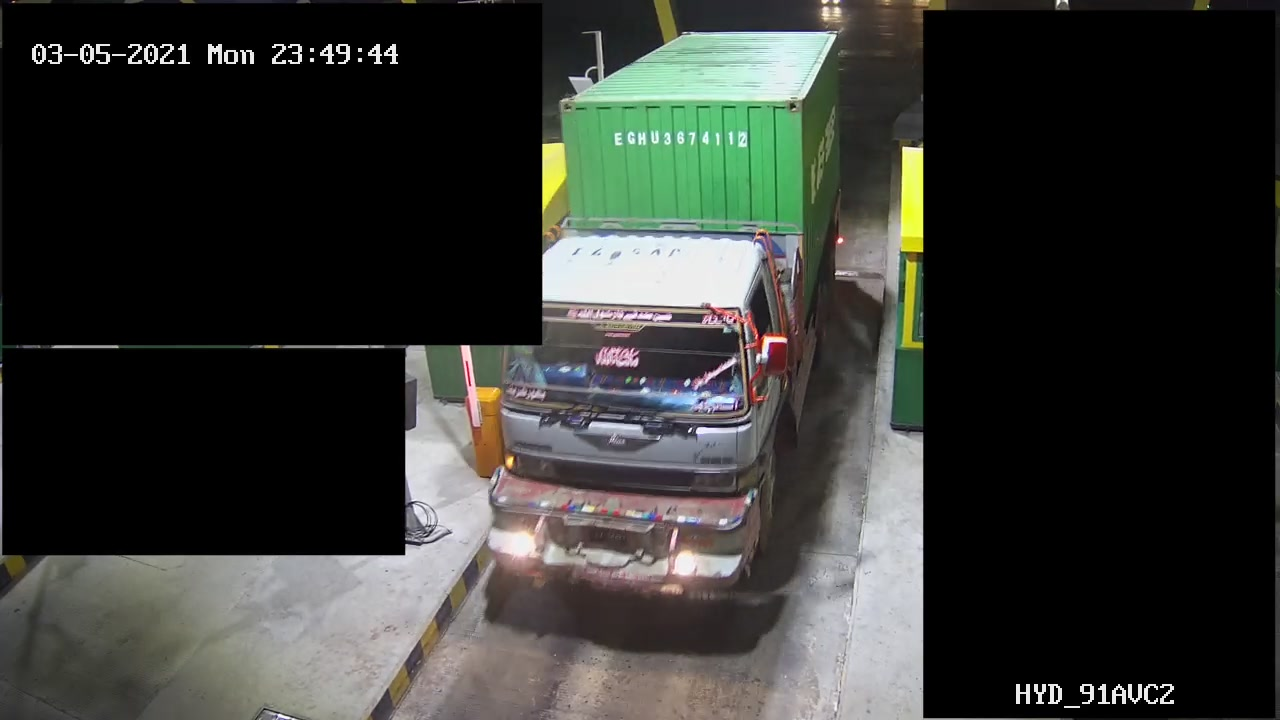F6: (484, 17, 851, 632)
